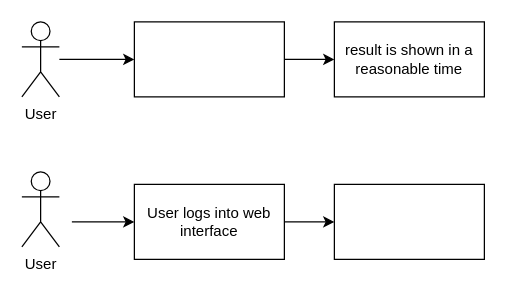
Image size: 506x295. Some labels were removed from this diagram. The centre of each missing label's shape, as x and y in pixels:
"Information loads in effeciently" goes at point 408,221.
"scans finger" goes at point 208,59.
